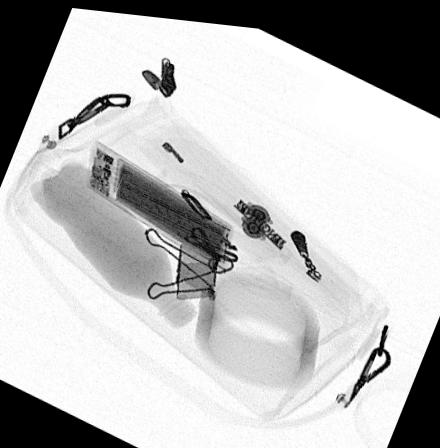Powerbank: (83, 137, 234, 267)
